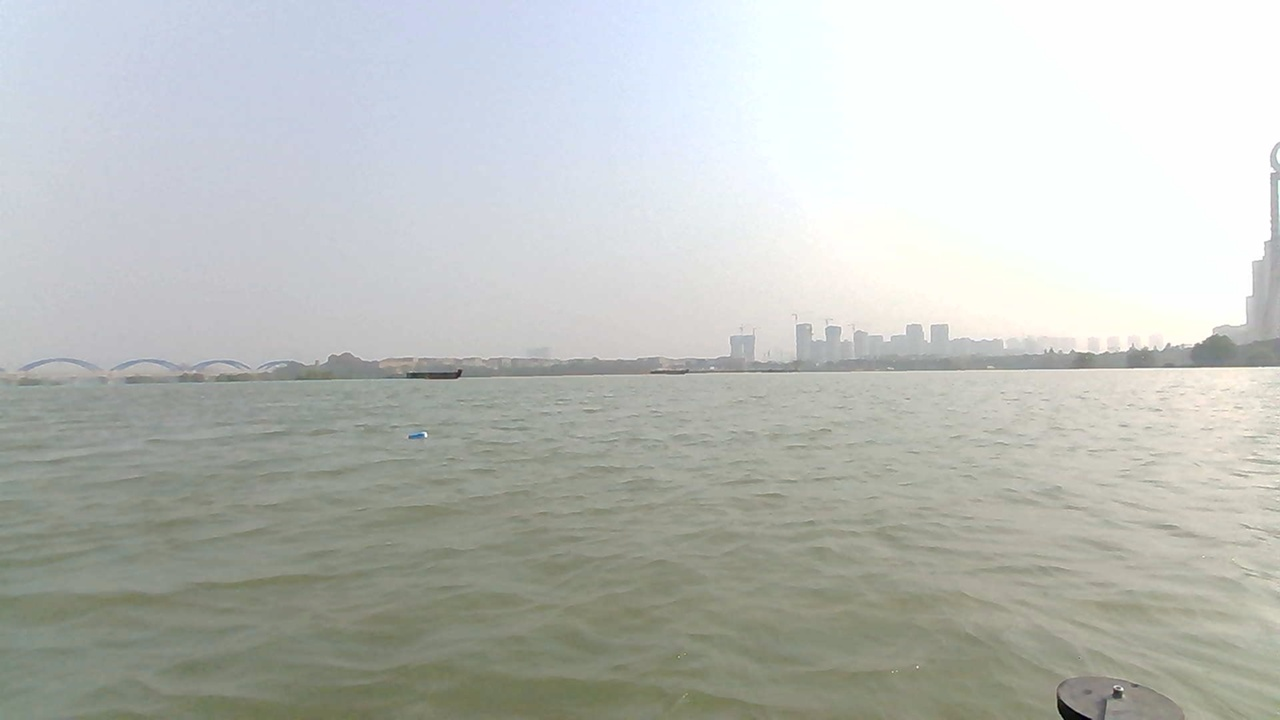bottle: (403, 429, 432, 443)
